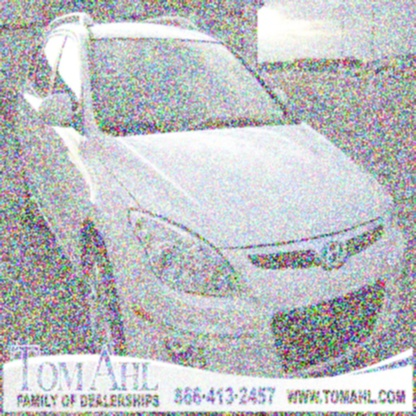Vehicle: (12, 9, 407, 386)
